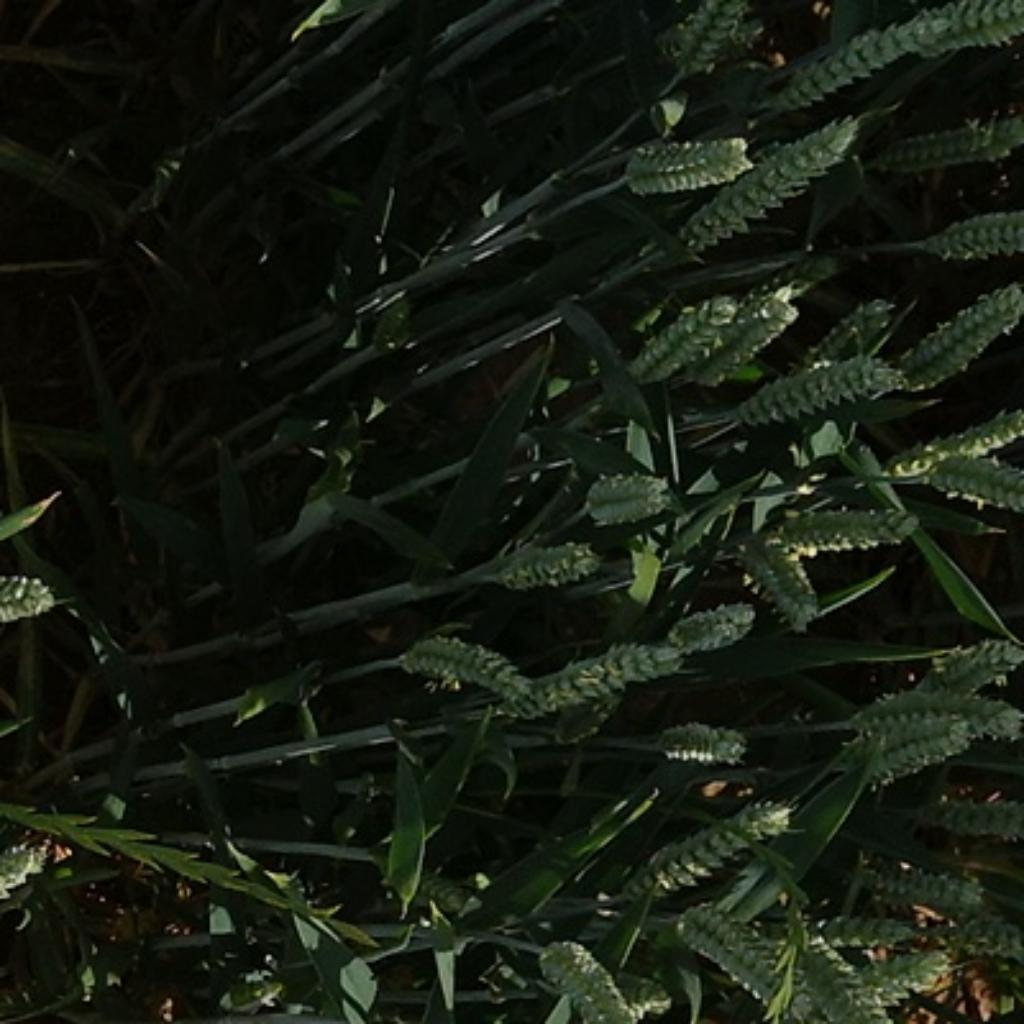0-0: (673, 110, 867, 248), (622, 273, 806, 391), (768, 1, 941, 111), (622, 785, 798, 893), (512, 622, 675, 724), (897, 282, 1023, 397), (867, 104, 1023, 183), (737, 348, 898, 422), (670, 896, 785, 998), (389, 624, 542, 698), (810, 944, 962, 1018), (883, 401, 1024, 480), (529, 926, 642, 1024), (863, 681, 1024, 747), (824, 714, 975, 780), (782, 940, 898, 1024), (768, 494, 924, 555), (614, 128, 757, 194), (732, 524, 824, 622), (912, 624, 1024, 698), (898, 2, 1024, 67), (483, 527, 609, 591), (855, 855, 990, 913), (662, 0, 748, 83), (578, 458, 673, 529), (925, 205, 1024, 269), (663, 591, 760, 655), (650, 711, 755, 768), (921, 785, 1024, 842), (925, 455, 1024, 512), (949, 885, 1021, 960), (0, 829, 69, 899), (549, 696, 629, 755), (793, 916, 924, 952), (0, 563, 66, 629)
